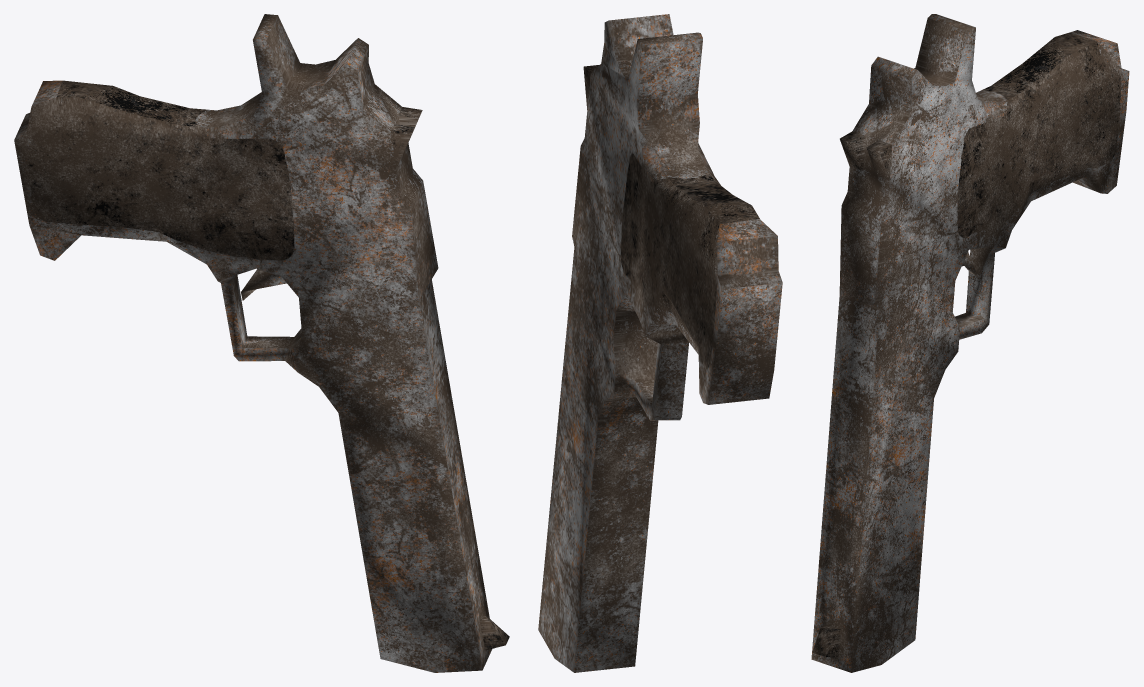
Rendered from Anim_idle_pistola_objetos.0038.obj.
3 views of the same model, side by side, from view 1: azimuth 30°, elevation 25°; view 2: azimuth 150°, elevation 25°; view 3: azimuth 270°, elevation 25° (orthographic). The views are drawn at different scales.
Visible parts, largest first — view 1: Pistola1; view 2: Pistola1; view 3: Pistola1.
Boxes of the visible parts, bbox=[...] form: Pistola1: bbox=[14, 14, 509, 672]; Pistola1: bbox=[538, 14, 782, 672]; Pistola1: bbox=[811, 14, 1129, 672].
Size of the model in its own units: 0.974 by 1.66 by 0.8252.
